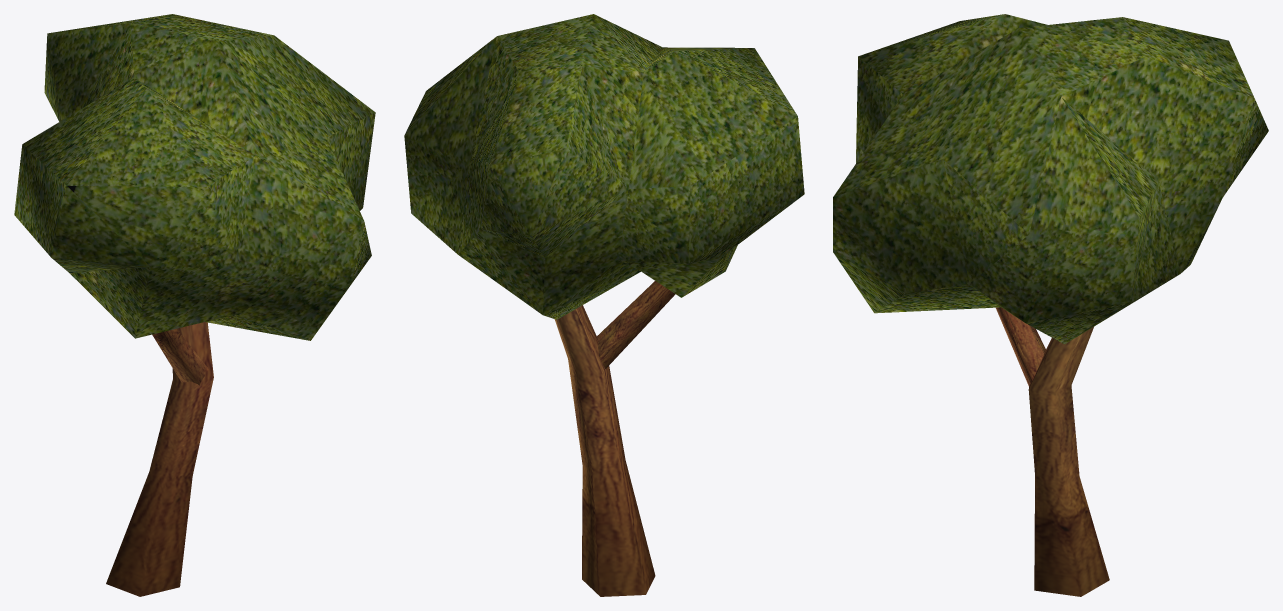
The model's file is SM_Tree_01.fbx.
3 renders of one model, left to right at view 1: azimuth 30°, elevation 25°; view 2: azimuth 150°, elevation 25°; view 3: azimuth 270°, elevation 25°, orthographic. The views are drawn at different scales.
Visible parts, largest first — view 1: SM_Tree_01; view 2: SM_Tree_01; view 3: SM_Tree_01.
Part boxes in pixels (<box>): SM_Tree_01: <box>14,14,375,596</box>; SM_Tree_01: <box>404,14,804,596</box>; SM_Tree_01: <box>833,14,1268,596</box>.
Size of the model in its own units: 2.15 by 3.16 by 2.16.
